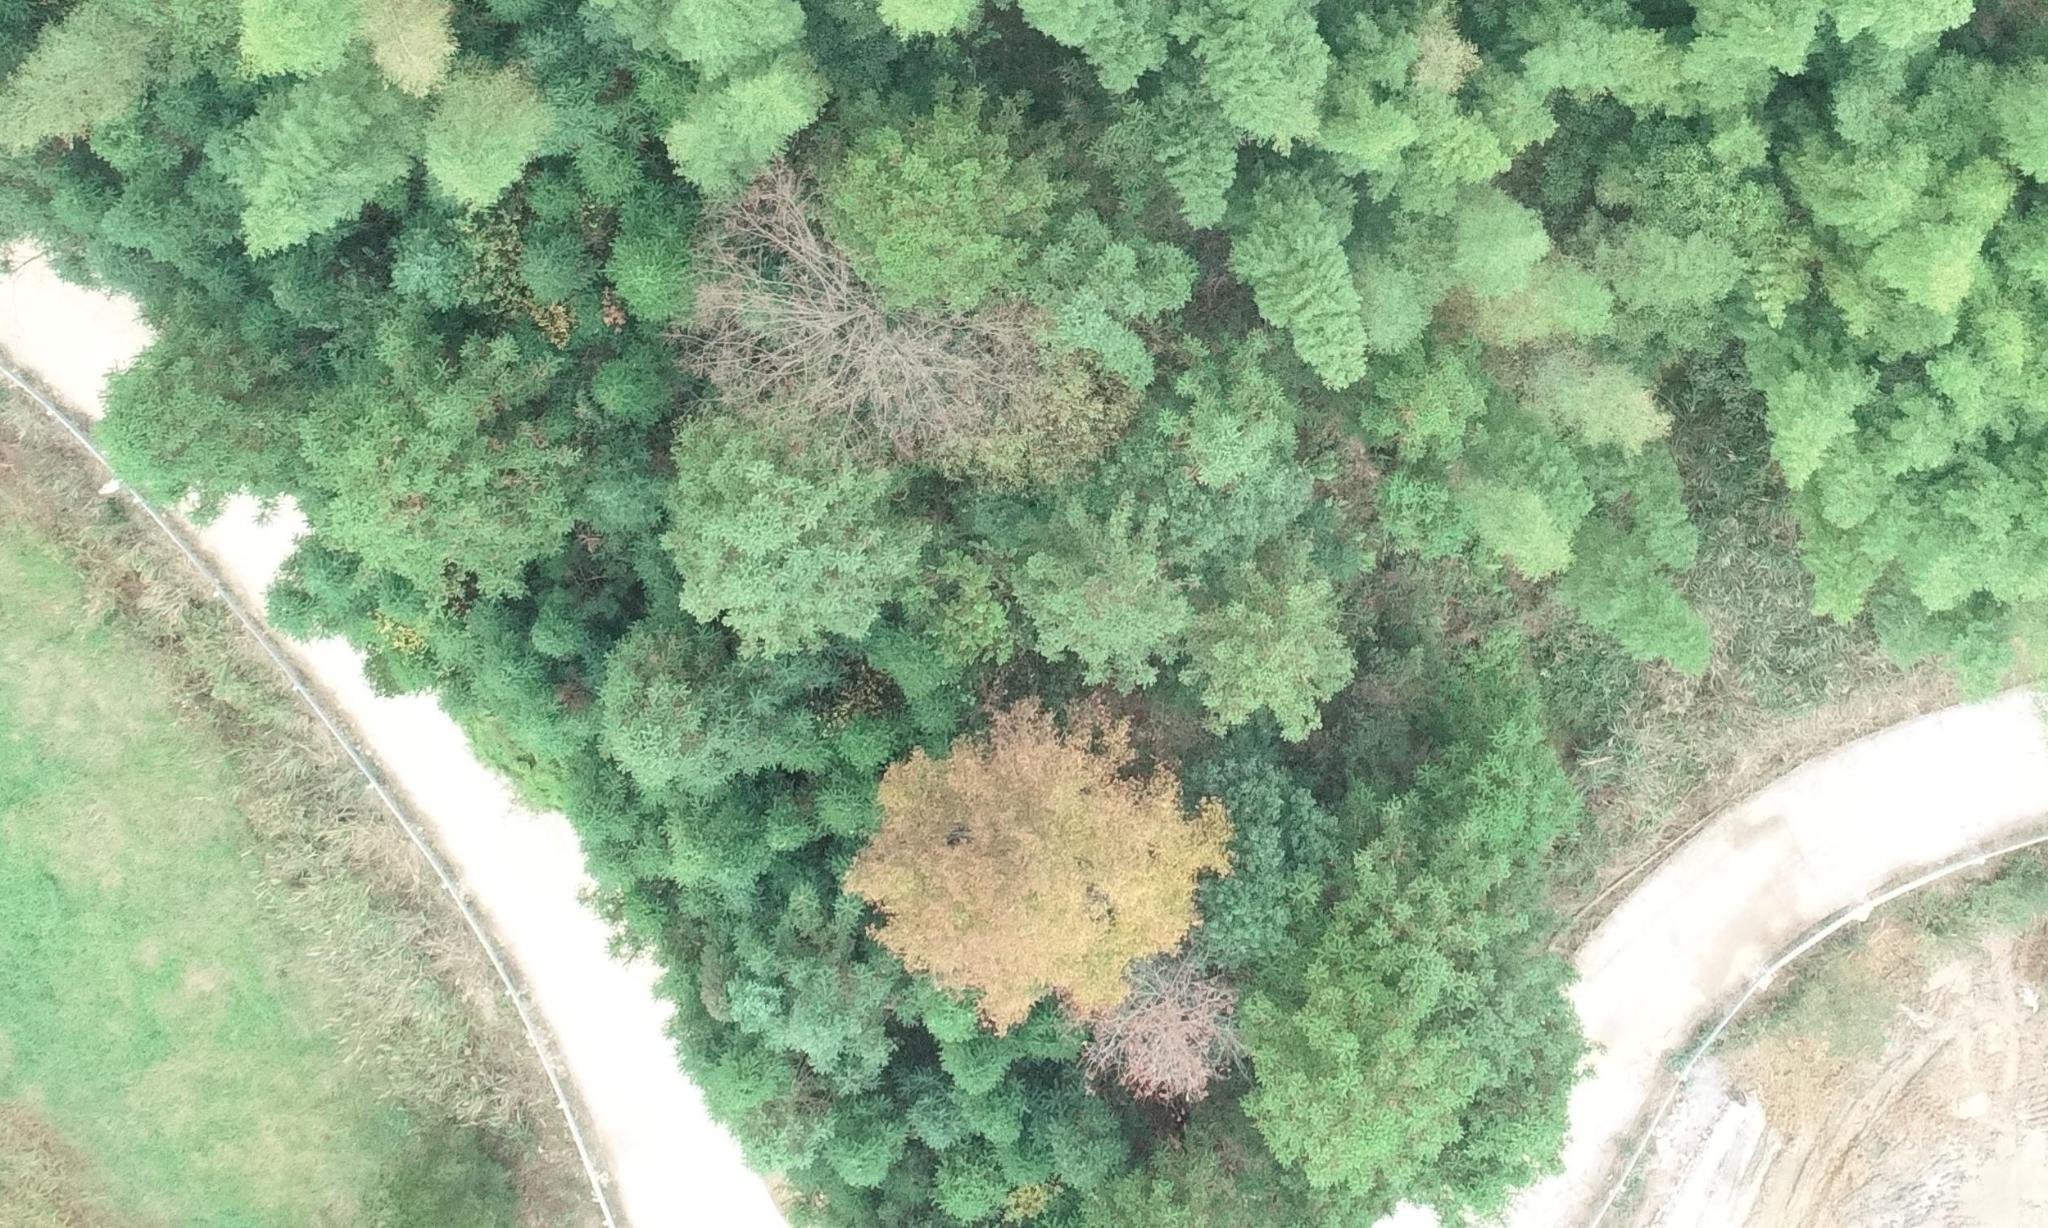dead: (681, 178, 1080, 477), (1091, 972, 1243, 1110)
heavy: (830, 708, 1202, 944)
